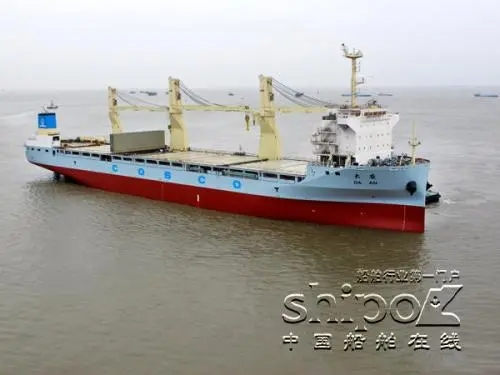Cargoship: (27, 44, 435, 233)
